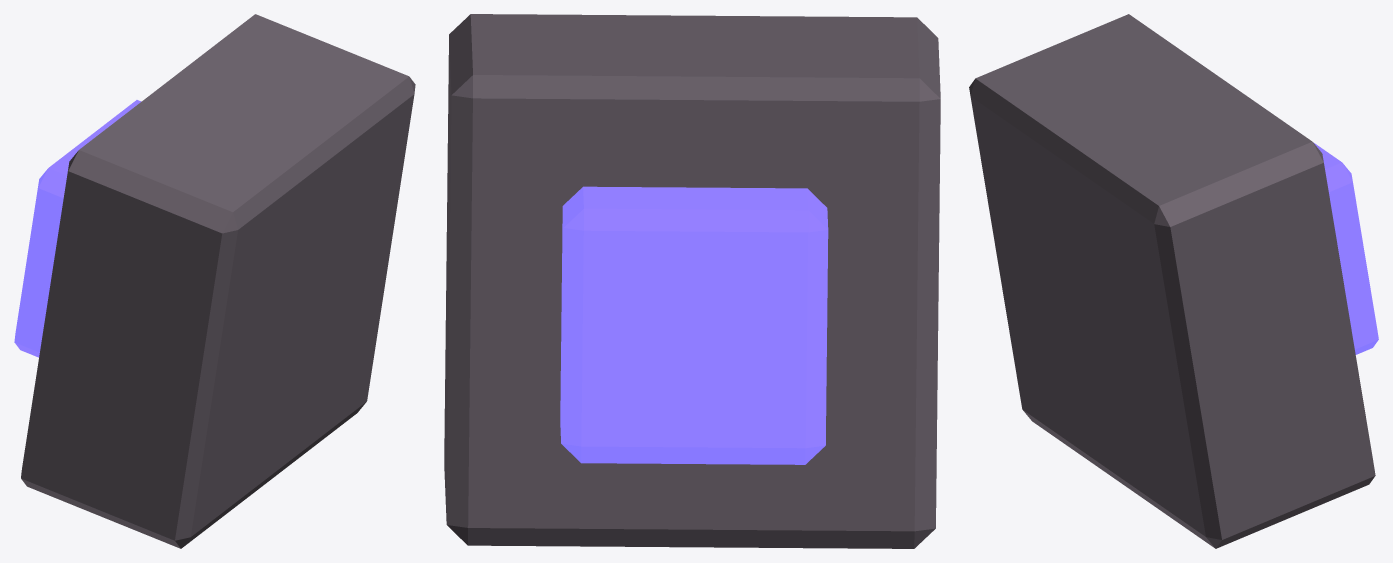
File: BOTAO_bibix.glb
3 renders of one model, left to right at view 1: azimuth 30°, elevation 25°; view 2: azimuth 150°, elevation 25°; view 3: azimuth 270°, elevation 25°, orthographic. The views are drawn at different scales.
Parts seen in each view (by area): view 1: Cube.010, Cube.009; view 2: Cube.010, Cube.009; view 3: Cube.010, Cube.009.
Boxes of the visible parts, left/top/right/bottom form: Cube.010: left=21, top=14, right=415, bottom=548; Cube.009: left=14, top=100, right=141, bottom=357; Cube.010: left=444, top=14, right=940, bottom=548; Cube.009: left=560, top=186, right=828, bottom=464; Cube.010: left=969, top=14, right=1375, bottom=548; Cube.009: left=1313, top=142, right=1378, bottom=354.
Size of the model in its own units: 1.33 by 1.24 by 1.19.
